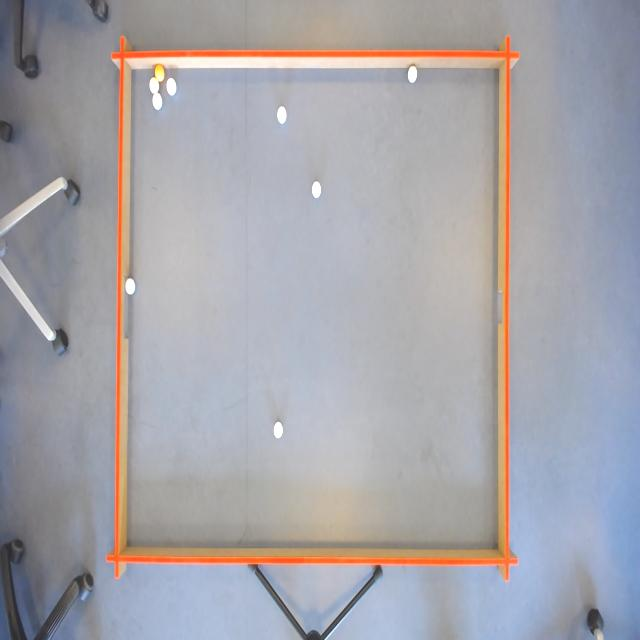orange_ball: (153, 63, 165, 82)
white_ball: (270, 419, 284, 444), (124, 274, 138, 299), (165, 75, 178, 97), (276, 103, 288, 126), (310, 179, 322, 202), (407, 65, 418, 86), (152, 91, 163, 112), (149, 76, 159, 96)
